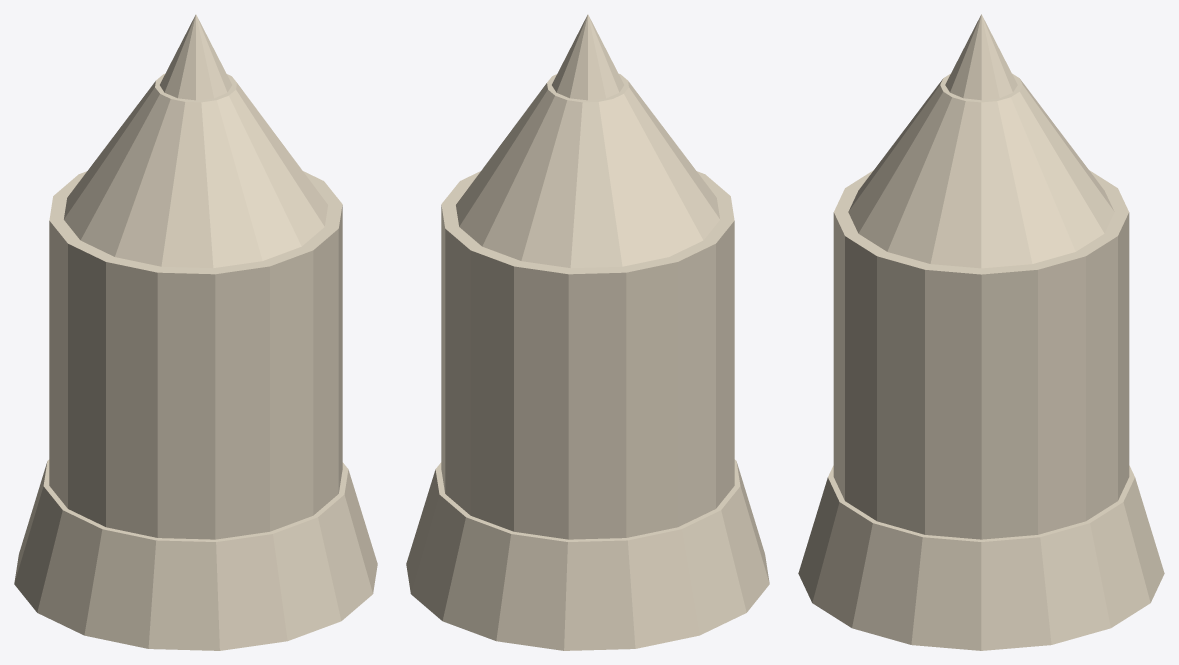
Rendered from accent_es.glb.
3 renders of one model, left to right at view 1: azimuth 30°, elevation 25°; view 2: azimuth 150°, elevation 25°; view 3: azimuth 270°, elevation 25°, orthographic.
Parts seen in each view (by area): view 1: Fort_Accent_es; view 2: Fort_Accent_es; view 3: Fort_Accent_es.
Boxes of the visible parts, x1,y1,x2,y2 form: Fort_Accent_es: [14, 14, 377, 650]; Fort_Accent_es: [406, 14, 769, 650]; Fort_Accent_es: [798, 14, 1164, 650].
Size of the model in its own units: 1.24 by 2.09 by 1.24.
